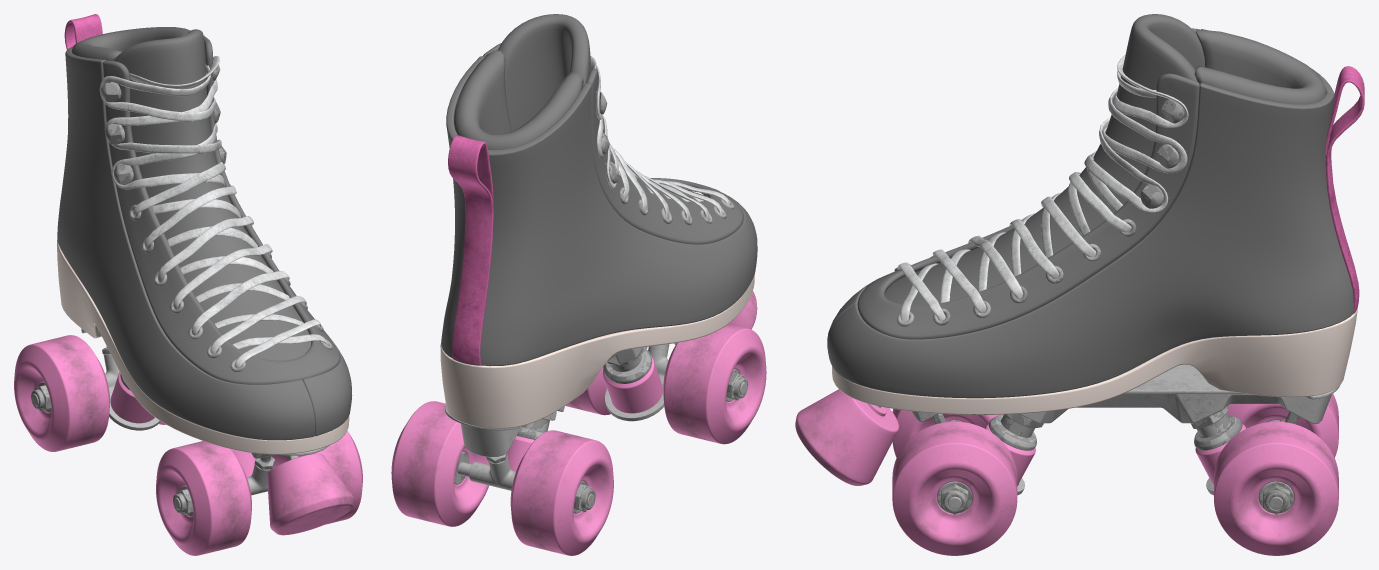
3 views of the same model, side by side, from view 1: azimuth 30°, elevation 25°; view 2: azimuth 150°, elevation 25°; view 3: azimuth 270°, elevation 25° (orthographic). The views are drawn at different scales.
Visible parts, largest first — view 1: Upper_Left_n3d, Wheel_Right_Rear_n3d, Laces4_n3d, Eyelets_n3d, Truck_Main_n3d, Brackets_n3d; view 2: Upper_Left_n3d, Wheel_Right_Rear_n3d, Truck_Main_n3d, Laces4_n3d, Brackets_n3d, Eyelets_n3d; view 3: Upper_Left_n3d, Wheel_Right_Rear_n3d, Laces4_n3d, Truck_Main_n3d, Eyelets_n3d, Brackets_n3d.
Boxes of the visible parts, x1,y1,x2,y2 form: Upper_Left_n3d: [57, 14, 352, 454]; Wheel_Right_Rear_n3d: [14, 335, 362, 555]; Laces4_n3d: [99, 56, 328, 367]; Eyelets_n3d: [101, 60, 354, 535]; Truck_Main_n3d: [31, 328, 328, 514]; Brackets_n3d: [32, 346, 298, 516]; Upper_Left_n3d: [440, 14, 757, 428]; Wheel_Right_Rear_n3d: [391, 324, 766, 555]; Truck_Main_n3d: [445, 347, 748, 511]; Laces4_n3d: [590, 55, 729, 220]; Brackets_n3d: [454, 344, 746, 513]; Eyelets_n3d: [596, 91, 757, 344]; Upper_Left_n3d: [827, 14, 1364, 414]; Wheel_Right_Rear_n3d: [892, 394, 1338, 555]; Laces4_n3d: [898, 55, 1188, 321]; Truck_Main_n3d: [912, 364, 1340, 514]; Eyelets_n3d: [795, 99, 1184, 485]; Brackets_n3d: [877, 406, 1299, 513].
Size of the model in its own units: 0.1243 by 0.3029 by 0.3168.
3 materials, 3 textured.
